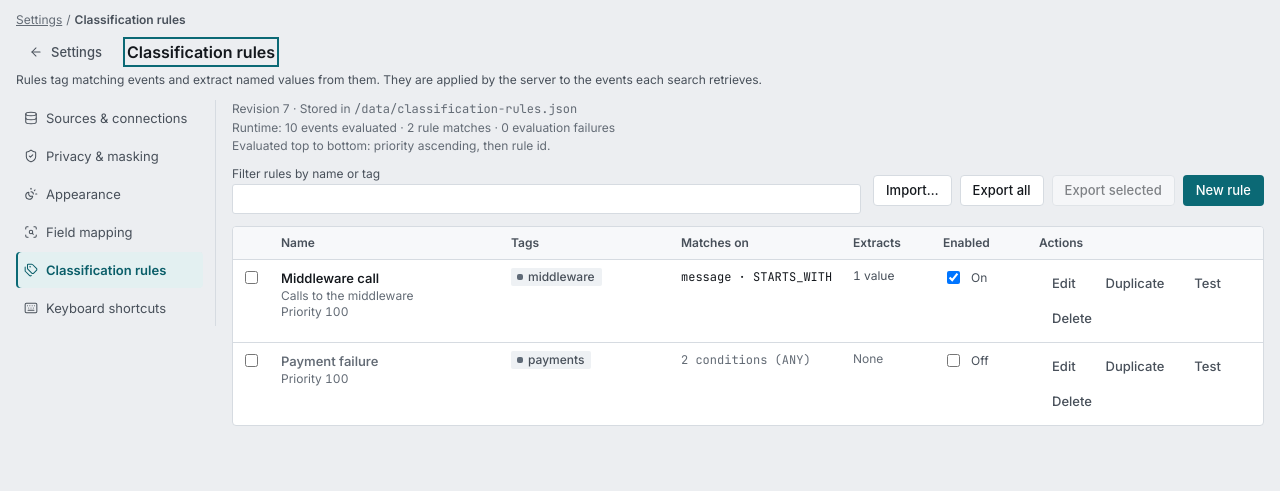
ClassificationRulesWorkspace - list › shows the error when an export fails
Click the button "Export all": click(1002, 190) [960,174,1044,206]
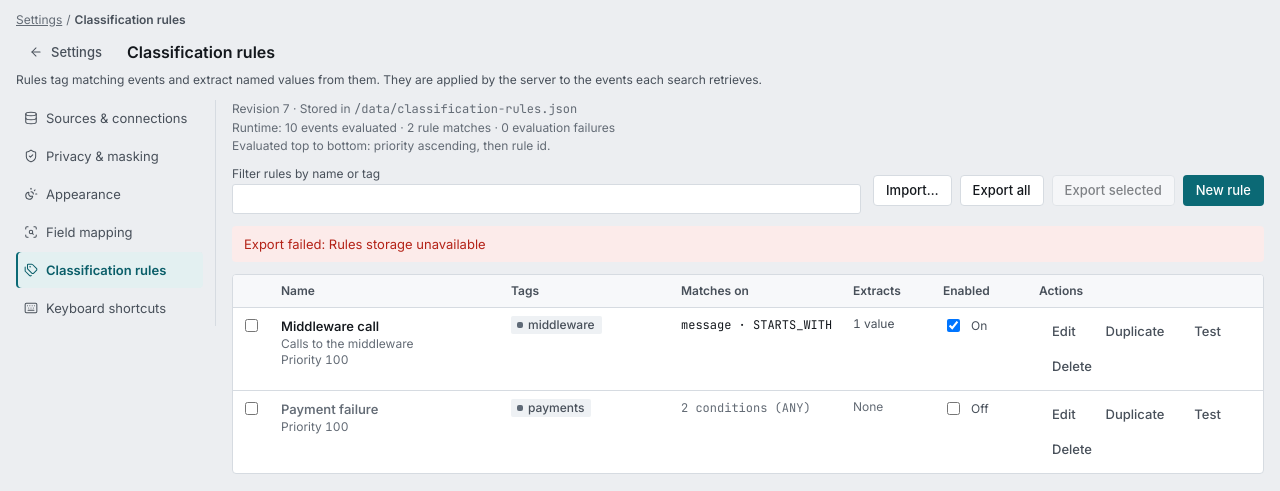
Now the text "Export failed: Rules storage unavailable" is shown, box [232,226,1264,262]
